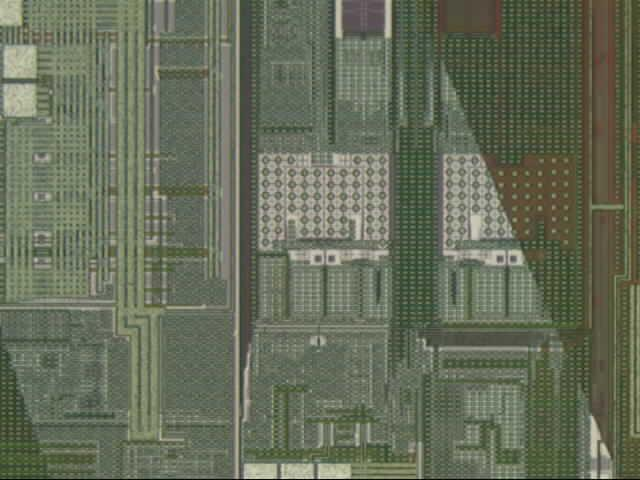COATING BAD: (1, 1, 627, 480)
